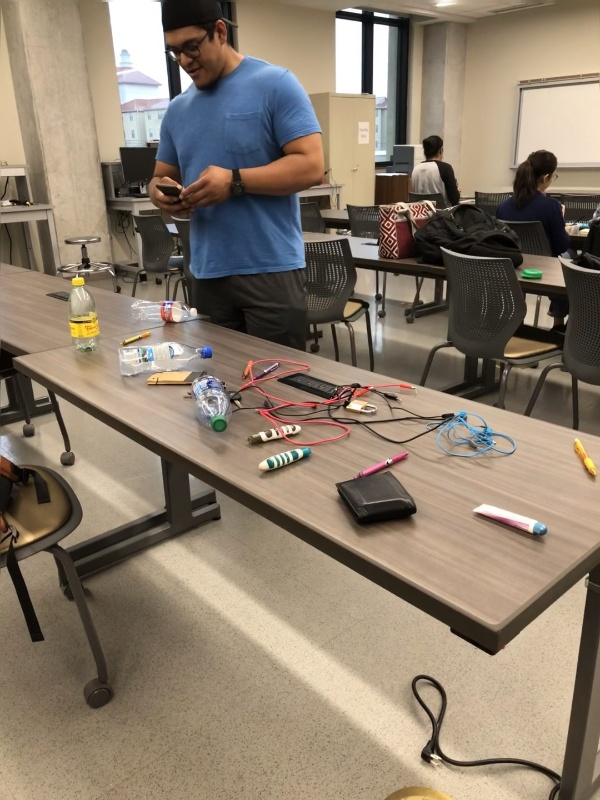bottle: (110, 342, 215, 376), (65, 274, 102, 356), (190, 372, 234, 433), (128, 297, 200, 325)
